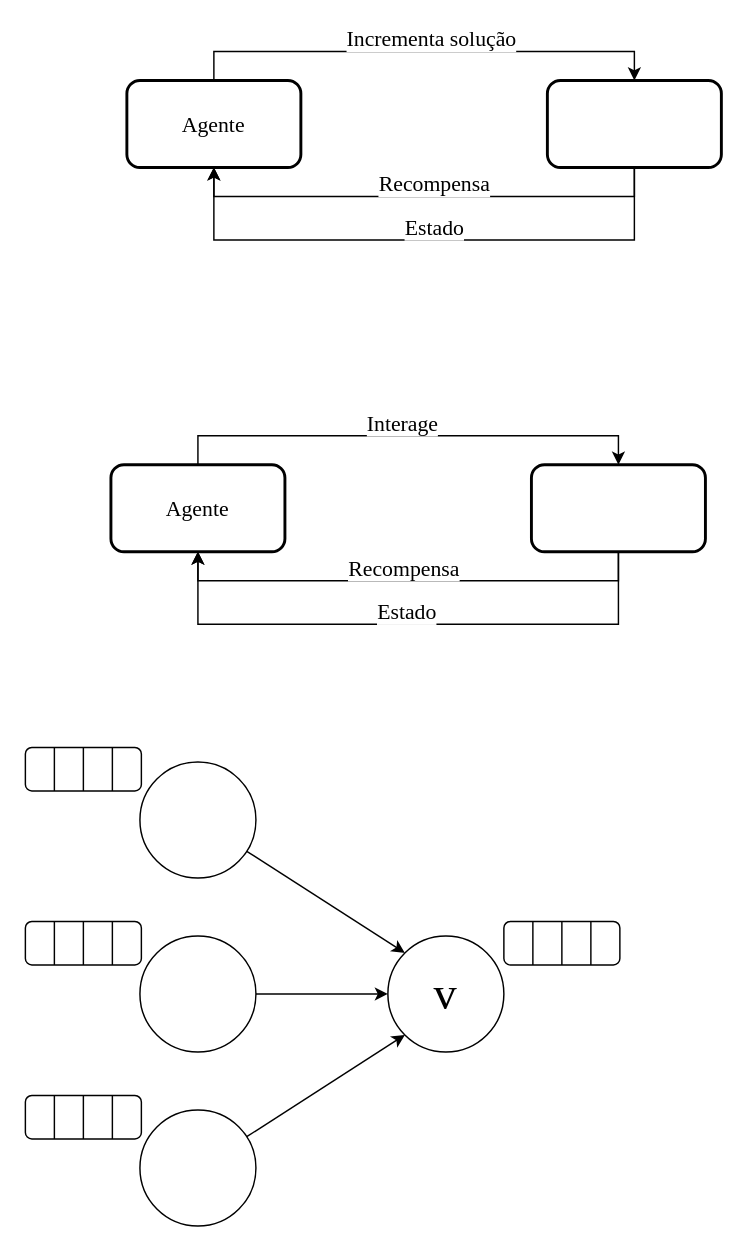
The diagram is 748 pixels wide and 1251 high, and some of its shapes have lost their labels. The centre of each missing label's shape, as x and y in pixels:
Ambiente: (x=617, y=507)
Grafo: (x=633, y=123)
